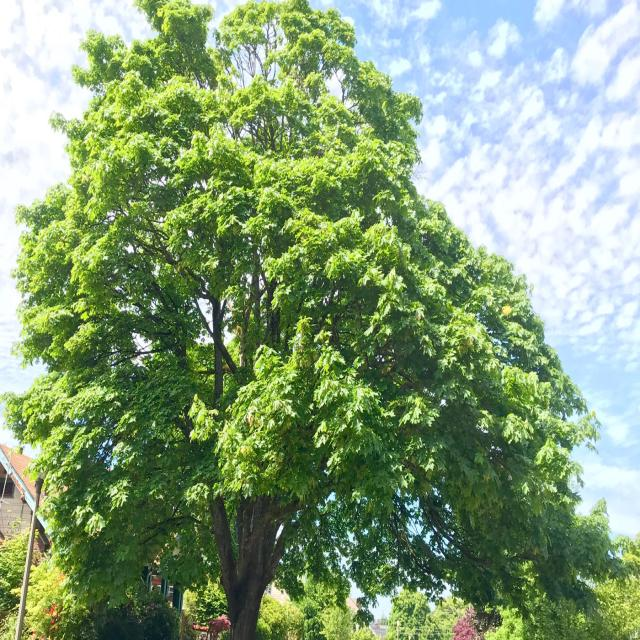Acer macrophyllum: (32, 8, 604, 640)
